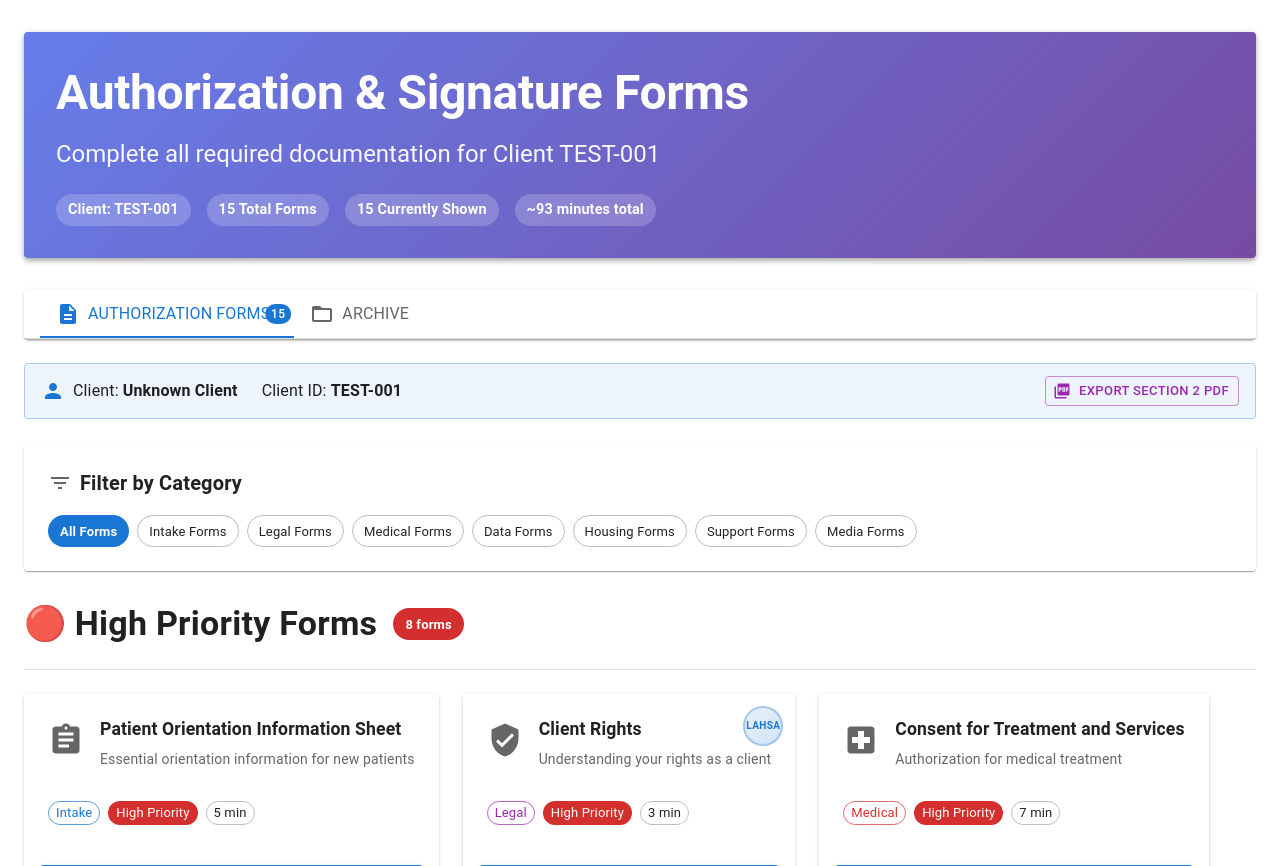
Test: AuthSig - Authorization Forms Container › Modal Functionality › should close modal when close button is clicked
This screenshot has width=1280, height=866.
Step 1. Click the heading "Client Rights" → click(590, 729), box [539,719,642,739]
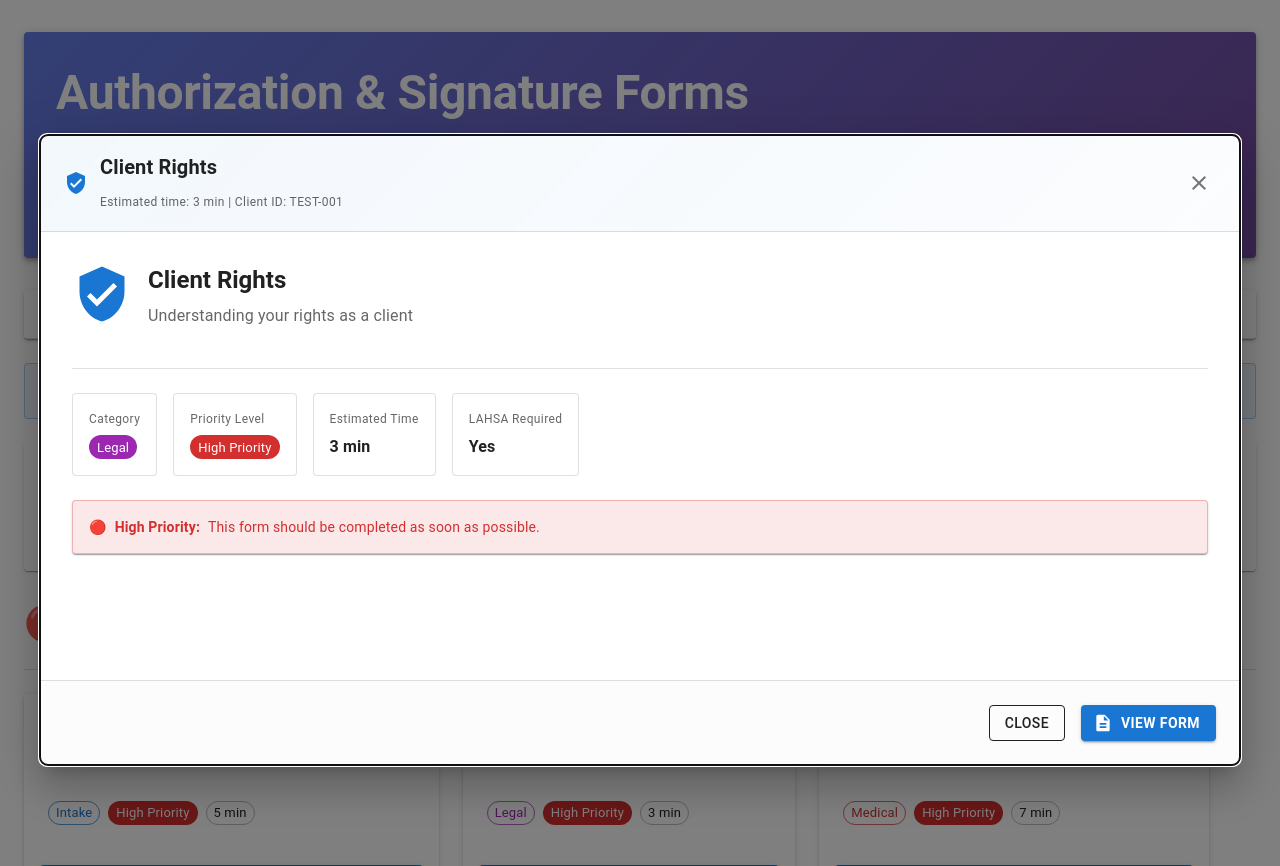
Now the dialog is shown
# ✅ FIXED: There are TWO close buttons (X icon + "Close" text), get all and click first
Step 2. Click the button named "close" → click(1199, 183), box [1182,166,1216,200]
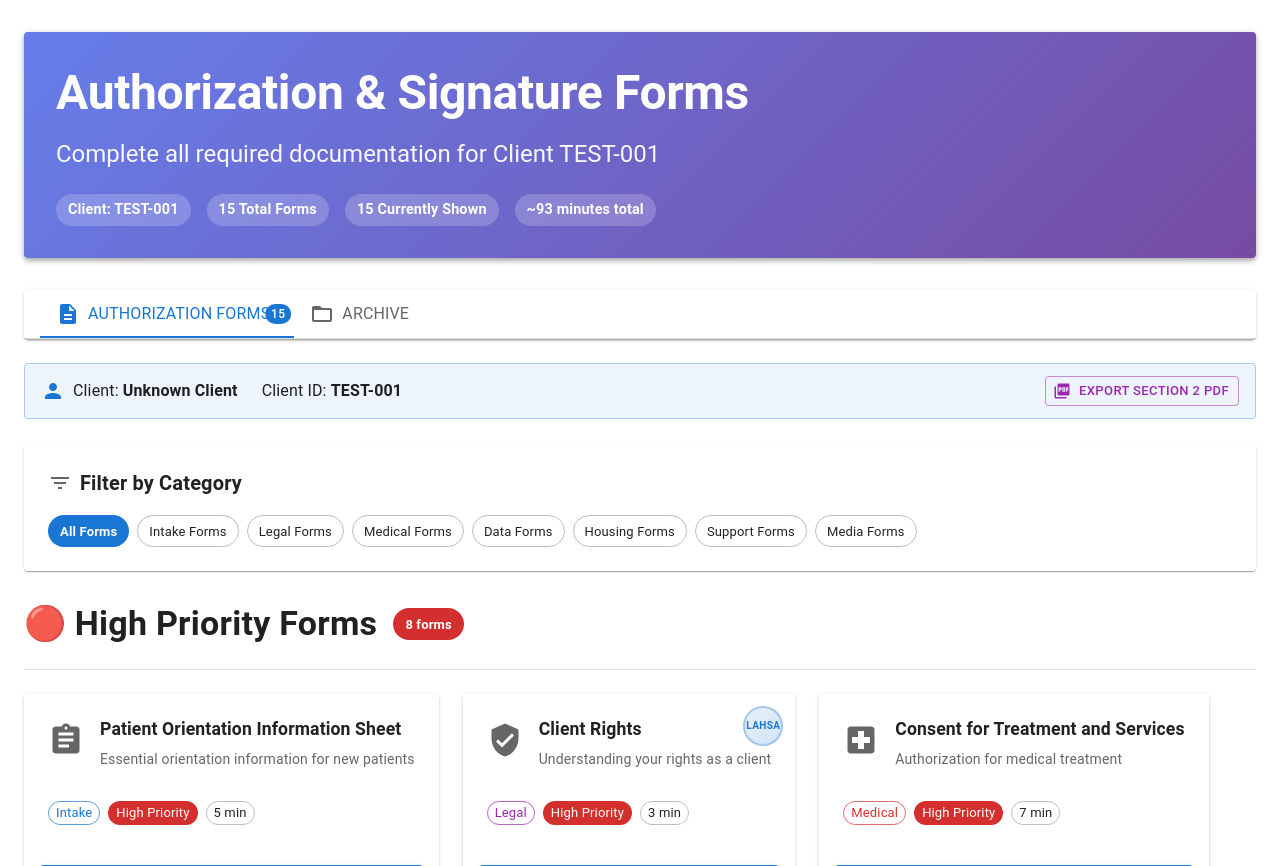
Now no dialogs are shown
